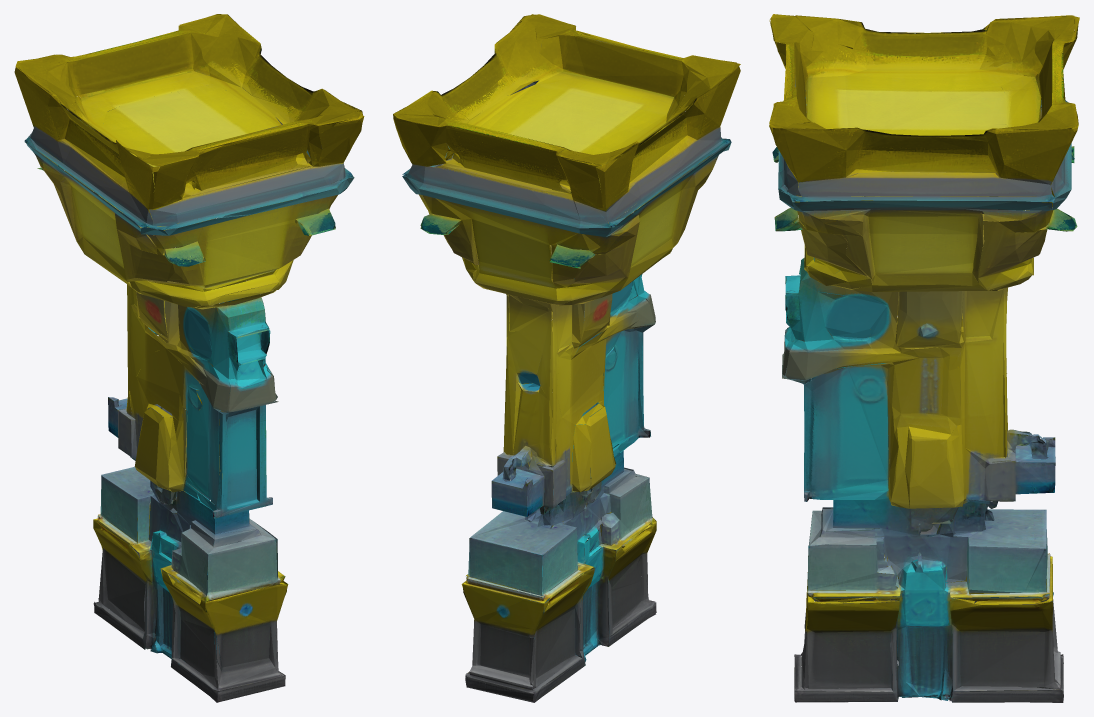
Rendered from bio_lab_t2.fbx.
3 renders of one model, left to right at view 1: azimuth 30°, elevation 25°; view 2: azimuth 150°, elevation 25°; view 3: azimuth 270°, elevation 25°, orthographic. The views are drawn at different scales.
Parts seen in each view (by area): view 1: bio_lab_t2; view 2: bio_lab_t2; view 3: bio_lab_t2.
Part boxes in pixels (x1,y1,x2,y2): bio_lab_t2: (14, 14, 364, 702); bio_lab_t2: (393, 14, 740, 702); bio_lab_t2: (769, 14, 1079, 702).
Bounding box in the file's own units: 1.2 × 3 × 1.38.
1 material, 1 textured.
